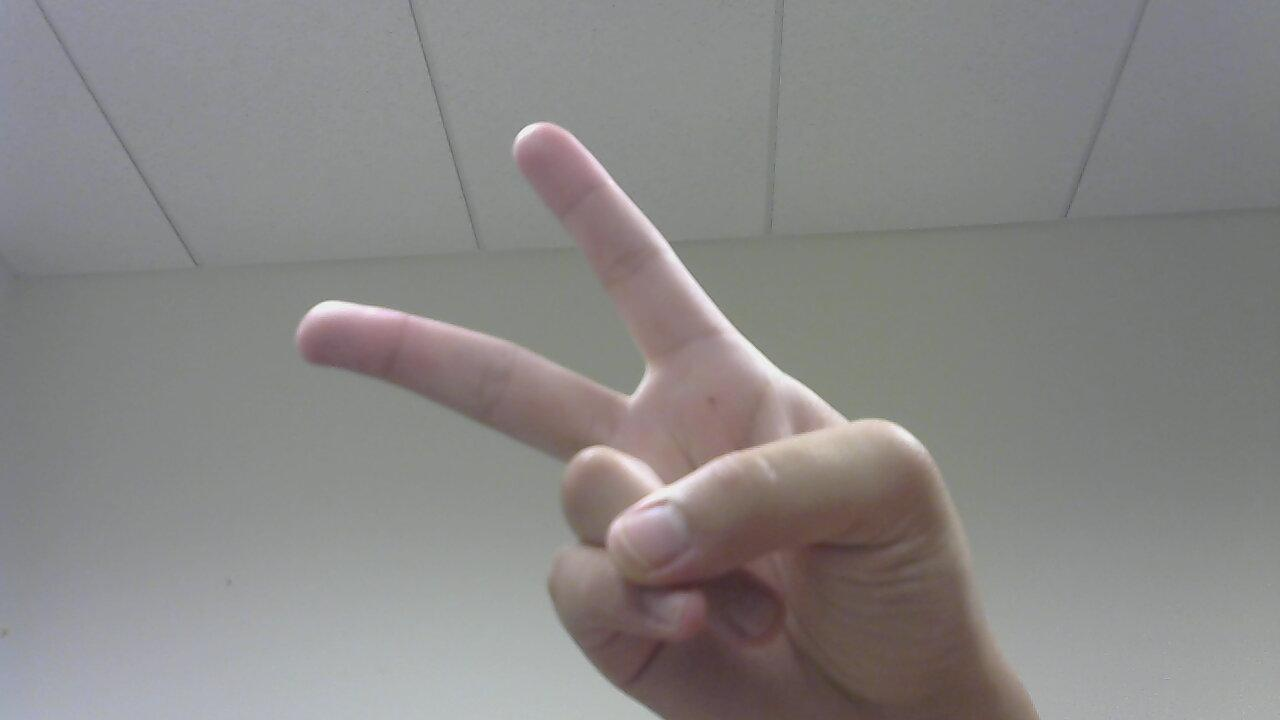peace: (201, 127, 1020, 719)
